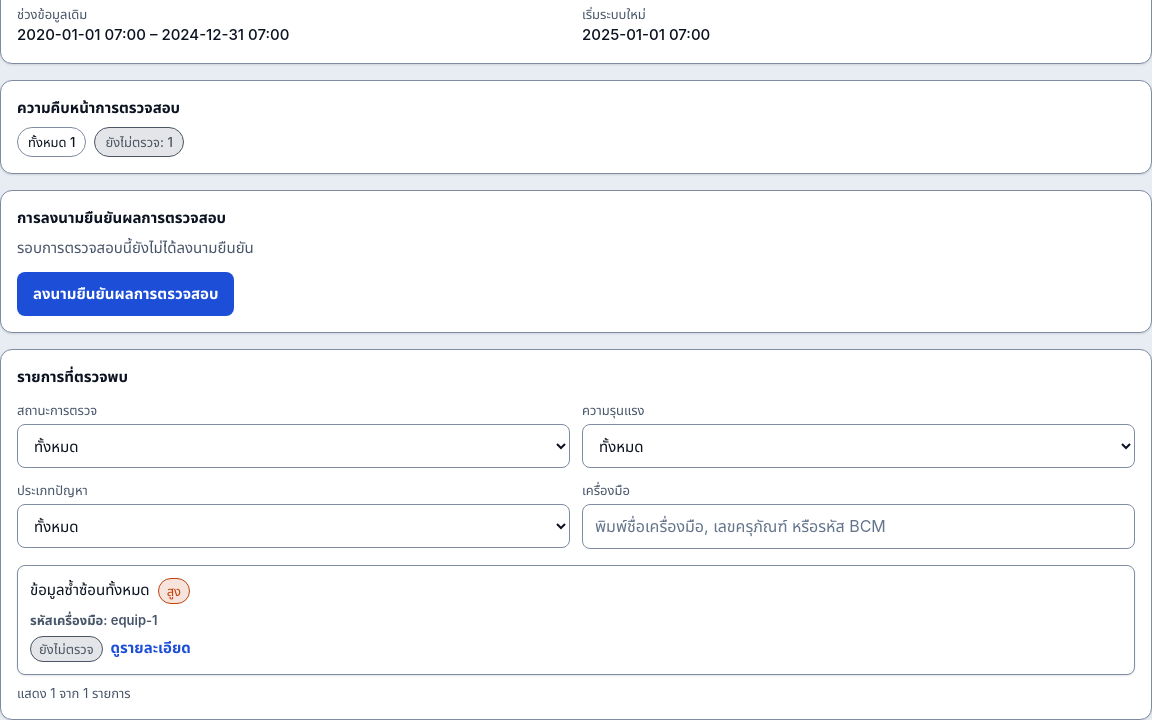
Test case: ReconciliationRunDetailPage -- role-aware usability gating › administrator sees disposition and sign-off actions
(page scrolled)
Expected: the button "ลงนามยืนยันผลการตรวจสอบ" is shown, x1=17 y1=272 x2=234 y2=316
Click the button "ข้อมูลซ้ำซ้อนทั้งหมด". click: [90, 590]
box: x1=17 y1=565 x2=1135 y2=675
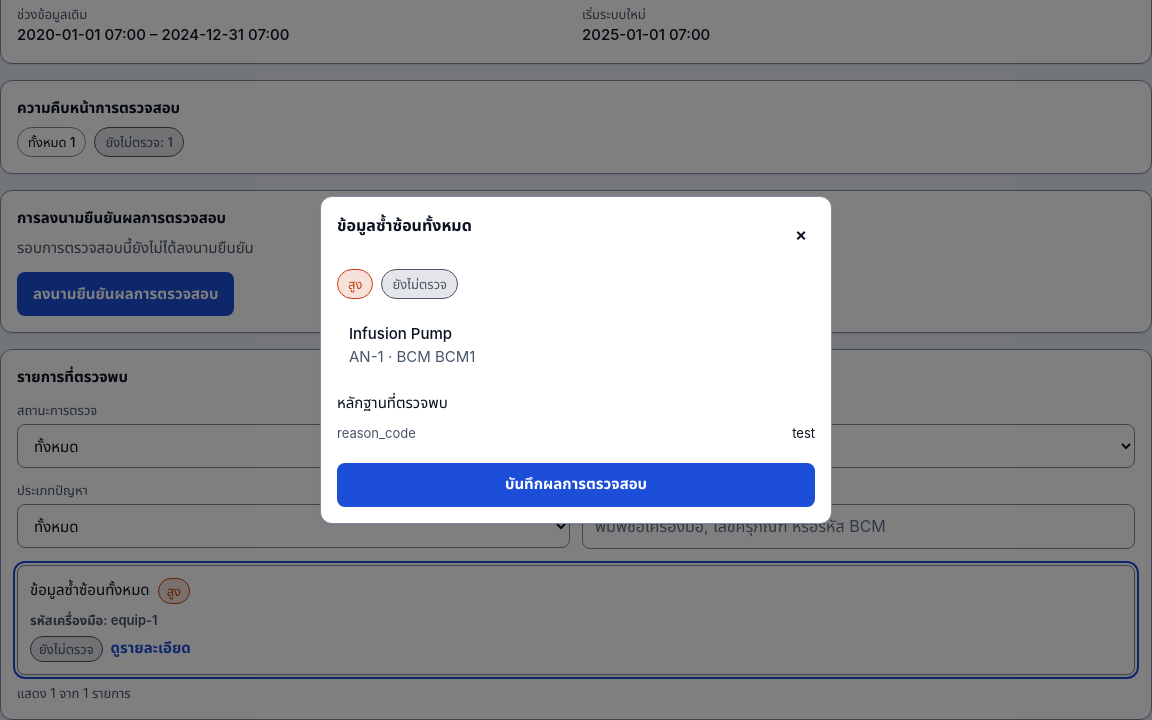
Expected: the button "บันทึกผลการตรวจสอบ" is shown, x1=337 y1=463 x2=815 y2=507
